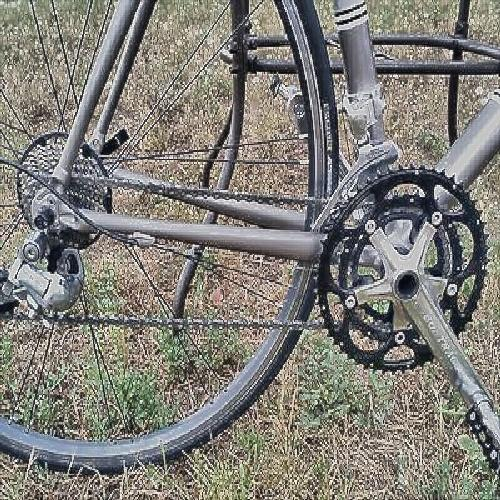bicycle: (32, 13, 476, 489)
